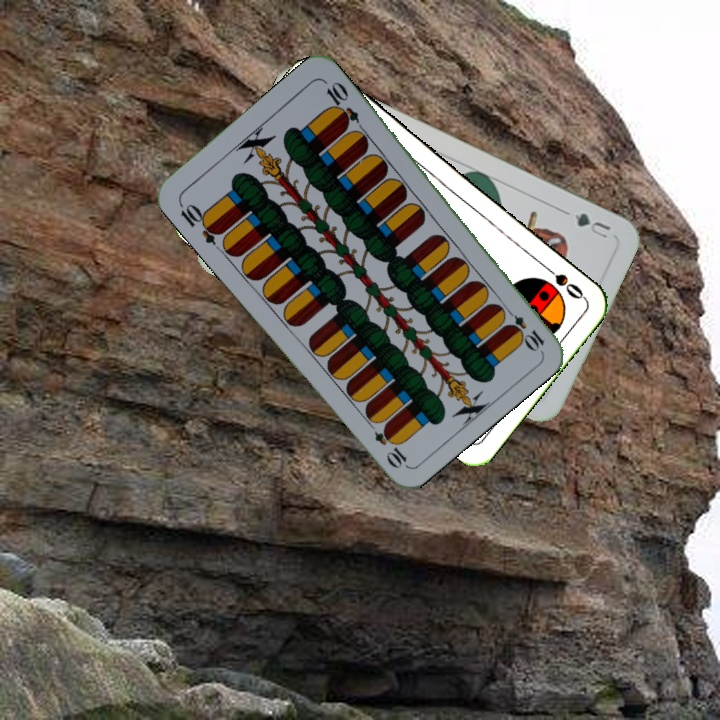E10: (175, 198, 225, 247), (499, 303, 547, 353)
GU: (569, 208, 614, 241)
SO: (537, 259, 587, 302)
